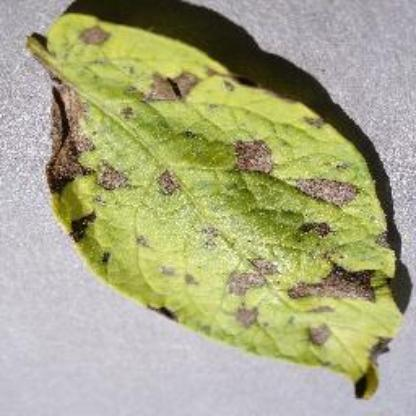Early-Blight: (24, 12, 406, 400)
